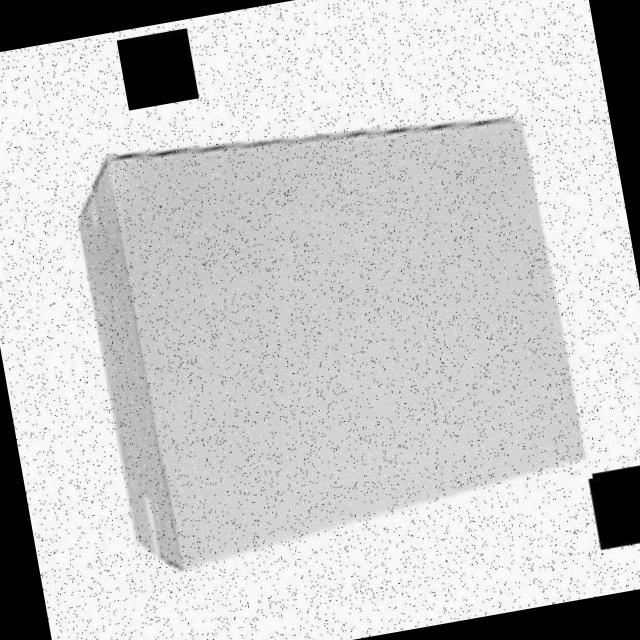box: (58, 72, 600, 586)
